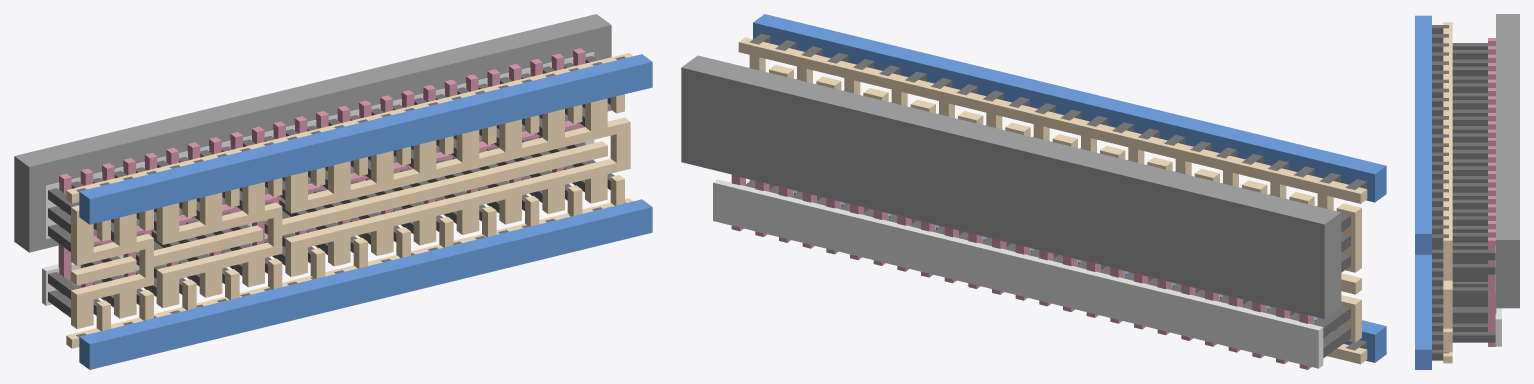
File: sky130_fd_sc_hd__bufinv_16.gds.gltf
3 views of the same model, side by side, from view 1: azimuth 30°, elevation 25°; view 2: azimuth 150°, elevation 25°; view 3: azimuth 270°, elevation 25° (orthographic). The views are drawn at different scales.
Visible parts, largest first — view 1: sky130_fd_sc_hd__bufinv_16_li1, sky130_fd_sc_hd__bufinv_16_met1, sky130_fd_sc_hd__bufinv_16_nwell, sky130_fd_sc_hd__bufinv_16_licon, sky130_fd_sc_hd__bufinv_16_poly, sky130_fd_sc_hd__bufinv_16_diff, sky130_fd_sc_hd__bufinv_16_mcon; view 2: sky130_fd_sc_hd__bufinv_16_nwell, sky130_fd_sc_hd__bufinv_16_diff, sky130_fd_sc_hd__bufinv_16_li1, sky130_fd_sc_hd__bufinv_16_met1, sky130_fd_sc_hd__bufinv_16_poly, sky130_fd_sc_hd__bufinv_16_mcon, sky130_fd_sc_hd__bufinv_16_licon; view 3: sky130_fd_sc_hd__bufinv_16_licon, sky130_fd_sc_hd__bufinv_16_nwell, sky130_fd_sc_hd__bufinv_16_met1, sky130_fd_sc_hd__bufinv_16_mcon, sky130_fd_sc_hd__bufinv_16_li1, sky130_fd_sc_hd__bufinv_16_poly, sky130_fd_sc_hd__bufinv_16_diff.
Part boxes in pixels (left/top/right/bottom): sky130_fd_sc_hd__bufinv_16_li1: left=66, top=53, right=633, bottom=348; sky130_fd_sc_hd__bufinv_16_met1: left=79, top=54, right=652, bottom=369; sky130_fd_sc_hd__bufinv_16_nwell: left=14, top=14, right=611, bottom=252; sky130_fd_sc_hd__bufinv_16_licon: left=48, top=56, right=614, bottom=317; sky130_fd_sc_hd__bufinv_16_poly: left=58, top=48, right=585, bottom=299; sky130_fd_sc_hd__bufinv_16_diff: left=42, top=52, right=594, bottom=305; sky130_fd_sc_hd__bufinv_16_mcon: left=76, top=56, right=625, bottom=337; sky130_fd_sc_hd__bufinv_16_nwell: left=681, top=55, right=1341, bottom=318; sky130_fd_sc_hd__bufinv_16_diff: left=713, top=179, right=1323, bottom=368; sky130_fd_sc_hd__bufinv_16_li1: left=738, top=37, right=1367, bottom=364; sky130_fd_sc_hd__bufinv_16_met1: left=753, top=14, right=1386, bottom=362; sky130_fd_sc_hd__bufinv_16_poly: left=731, top=174, right=1313, bottom=369; sky130_fd_sc_hd__bufinv_16_mcon: left=749, top=33, right=1366, bottom=350; sky130_fd_sc_hd__bufinv_16_licon: left=746, top=67, right=1350, bottom=358; sky130_fd_sc_hd__bufinv_16_licon: left=1452, top=43, right=1495, bottom=342; sky130_fd_sc_hd__bufinv_16_nwell: left=1496, top=14, right=1519, bottom=308; sky130_fd_sc_hd__bufinv_16_met1: left=1415, top=15, right=1431, bottom=369; sky130_fd_sc_hd__bufinv_16_mcon: left=1432, top=25, right=1448, bottom=360; sky130_fd_sc_hd__bufinv_16_li1: left=1443, top=22, right=1452, bottom=363; sky130_fd_sc_hd__bufinv_16_poly: left=1488, top=38, right=1496, bottom=346; sky130_fd_sc_hd__bufinv_16_diff: left=1495, top=246, right=1501, bottom=346.
Size of the model in its own units: 11.42 by 3.2 by 2.24.
